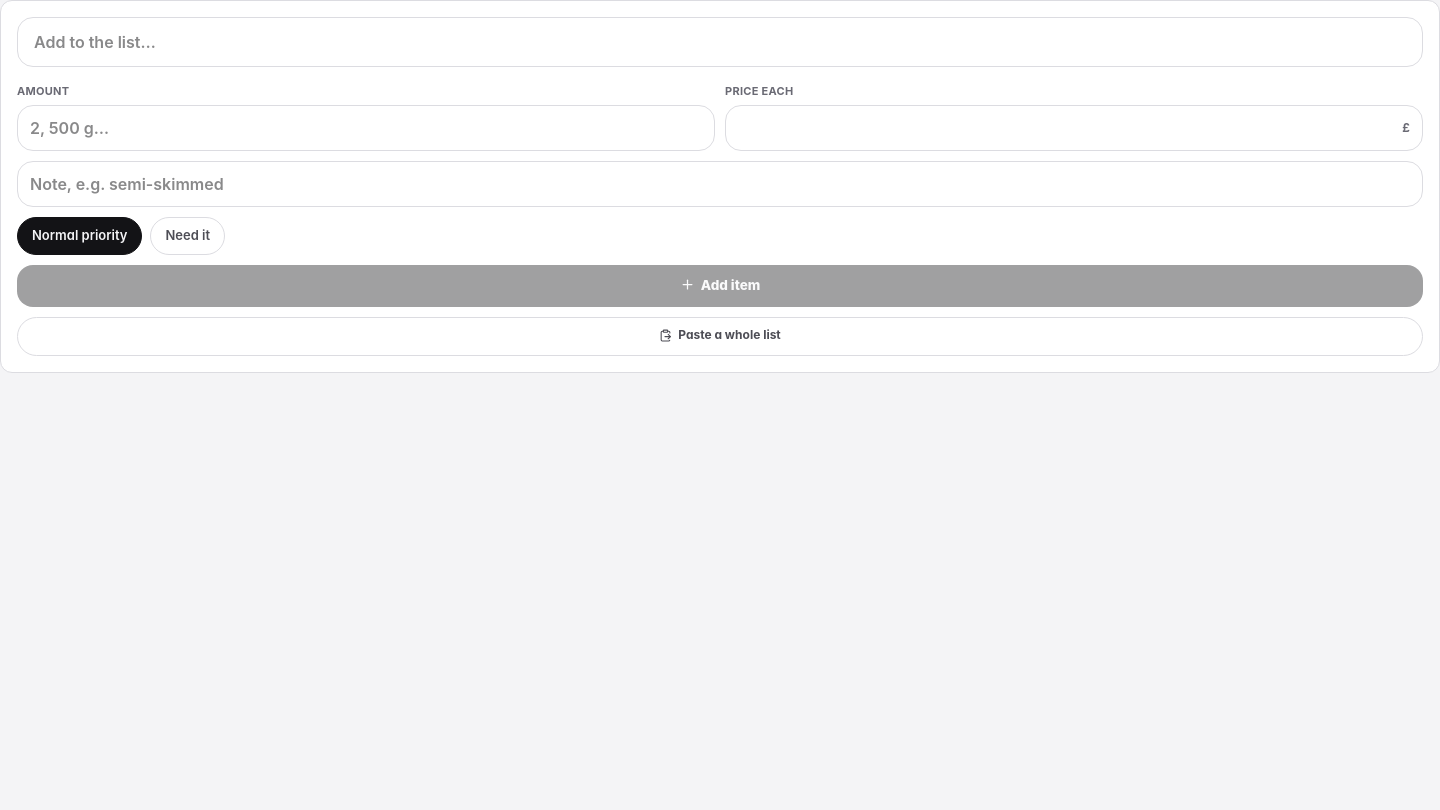
Test: pasting a whole list into the add form › disables the add button when nothing parses
Click the button "Paste a whole list" at [720, 337], box [17,317,1423,356]
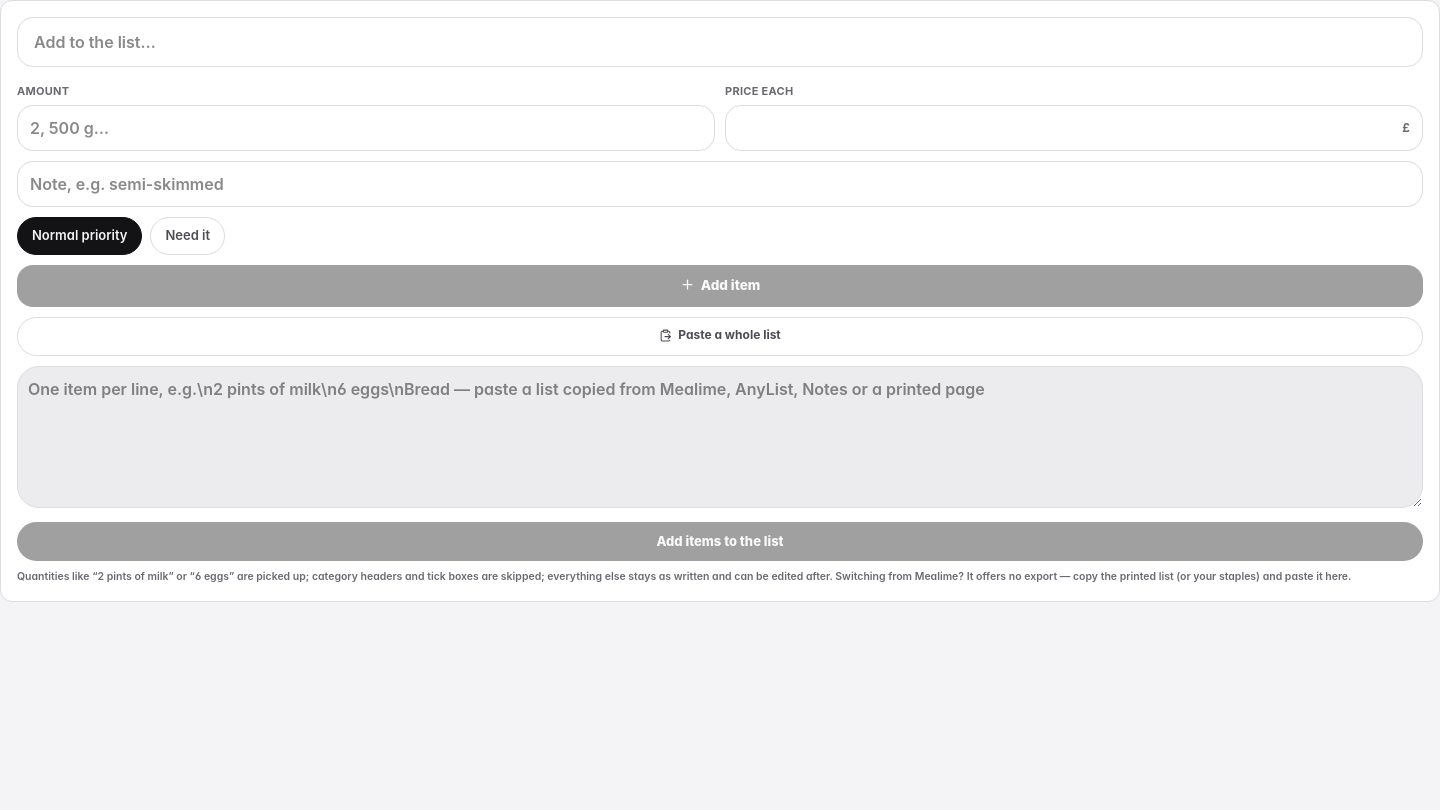
Expected: the button "Add items to the list" is disabled, [17,522,1423,561]
